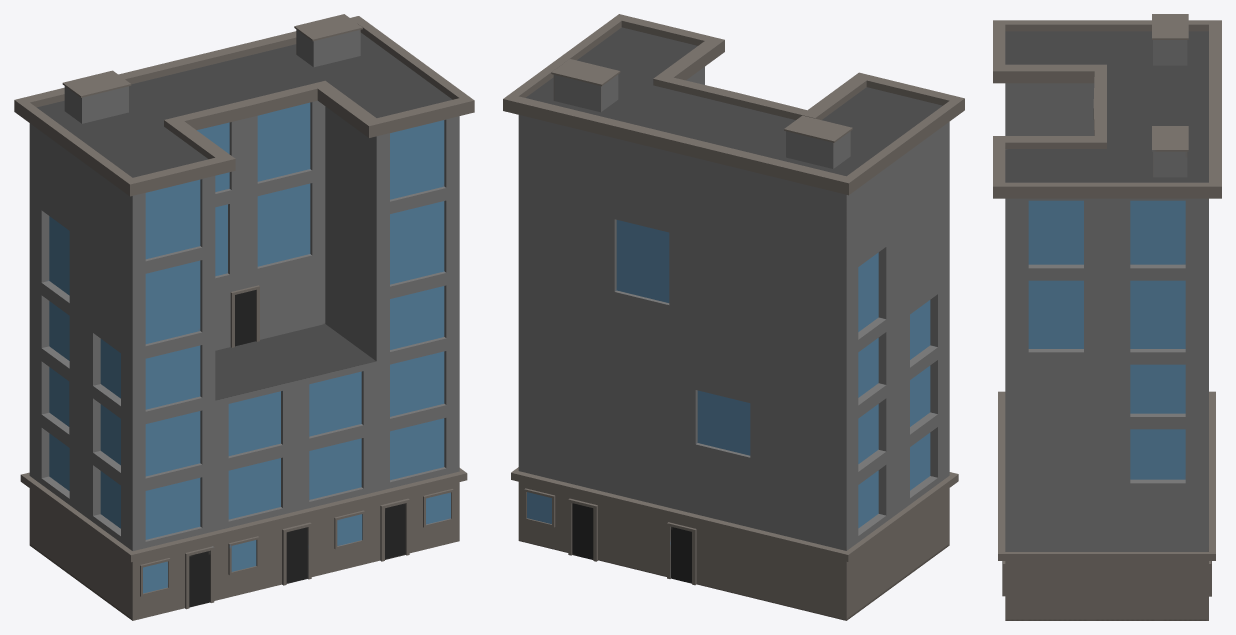
Rendered from CityBuilding05.glb.
3 renders of one model, left to right at view 1: azimuth 30°, elevation 25°; view 2: azimuth 150°, elevation 25°; view 3: azimuth 270°, elevation 25°, orthographic.
Visible parts, largest first — view 1: CityBuilding05; view 2: CityBuilding05; view 3: CityBuilding05.
Part boxes in pixels (x1,y1,x2,y2): CityBuilding05: (14, 14, 474, 620); CityBuilding05: (503, 14, 964, 620); CityBuilding05: (993, 14, 1221, 620).
Size of what is drawn, in the model's own units: 12.41 by 16.01 by 7.22.
1 material, 1 textured.
